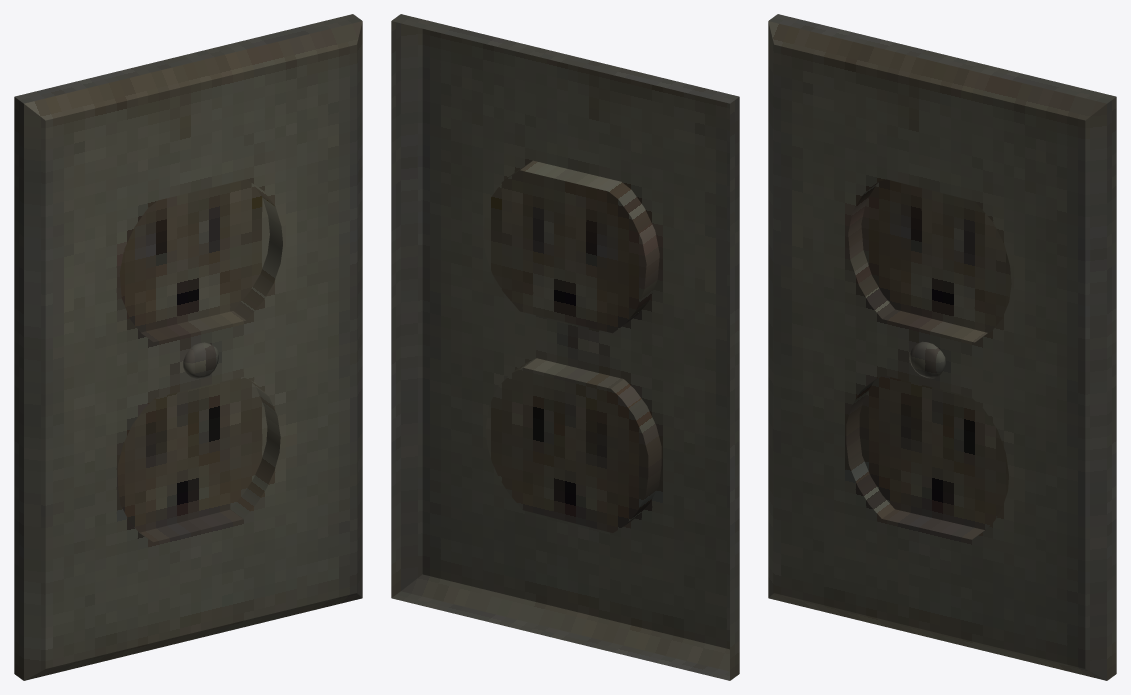
Rendered from electrical_outlet_1.glb.
The picture shows the model from 3 angles, left to right: view 1: azimuth 30°, elevation 25°; view 2: azimuth 150°, elevation 25°; view 3: azimuth 330°, elevation 25°; orthographic projection.
Parts seen in each view (by area): view 1: electrical_outlet_1; view 2: electrical_outlet_1; view 3: electrical_outlet_1.
Boxes of the visible parts, box(x1,y1,x2,y2) form: electrical_outlet_1: box(14, 14, 362, 680); electrical_outlet_1: box(391, 14, 739, 680); electrical_outlet_1: box(768, 14, 1116, 680).
Bounding box in the file's own units: 0.1113 × 0.1812 × 0.0125.
1 material, 1 textured.
